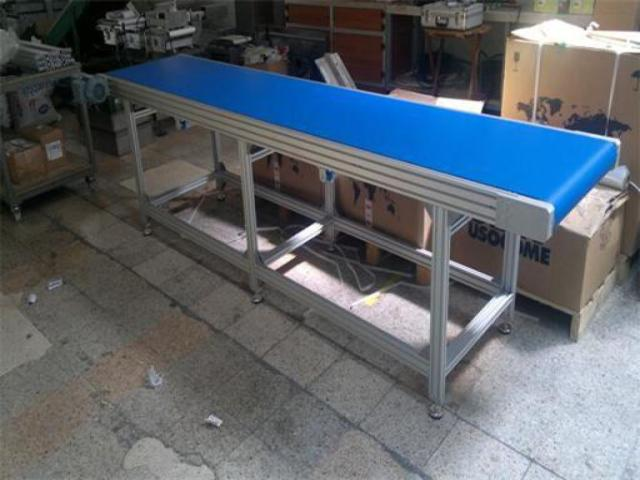conveyor: (94, 50, 624, 420)
